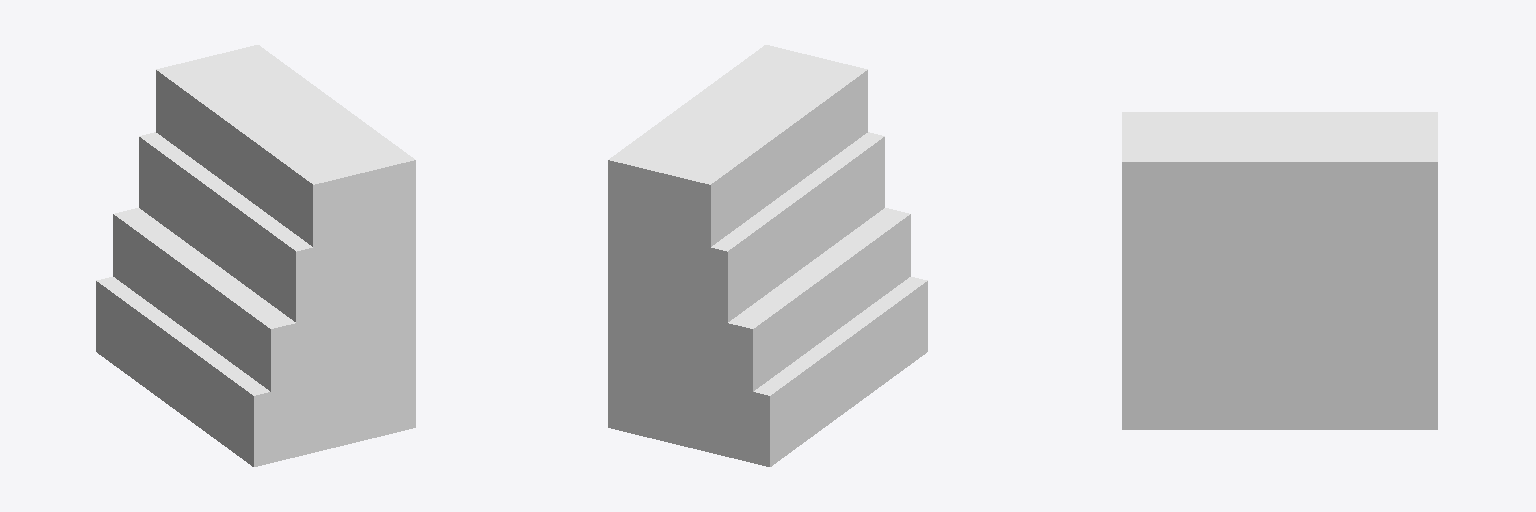
The model's file is Gora1.obj.
3 views of the same model, side by side, from view 1: azimuth 30°, elevation 25°; view 2: azimuth 150°, elevation 25°; view 3: azimuth 270°, elevation 25° (orthographic).
Parts seen in each view (by area): view 1: object 1; view 2: object 1; view 3: object 1.
Part boxes in pixels (left/top/right/bottom): object 1: left=96, top=45, right=415, bottom=466; object 1: left=608, top=45, right=927, bottom=466; object 1: left=1122, top=112, right=1437, bottom=429.
Size of the model in its own units: 15.2 by 24 by 25.6.